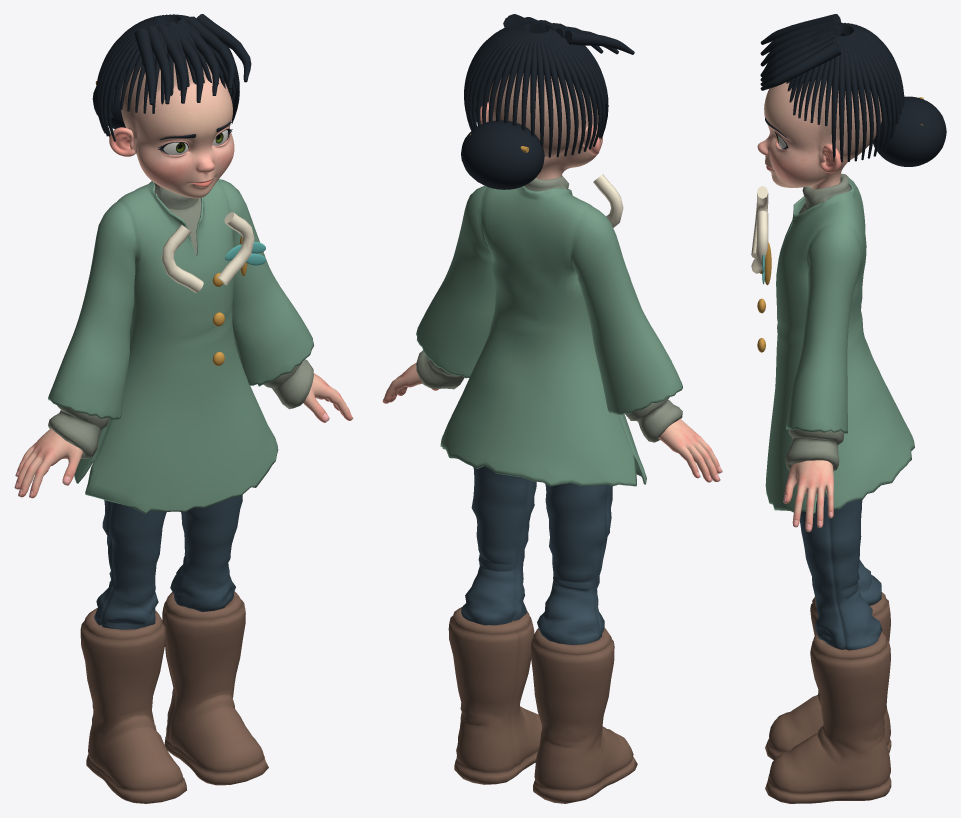
The model's file is actor-live-li.glb.
The picture shows the model from 3 angles, left to right: view 1: azimuth 30°, elevation 25°; view 2: azimuth 150°, elevation 25°; view 3: azimuth 270°, elevation 25°; orthographic projection.
Parts seen in each view (by area): view 1: GEO-spring_jacket.001, GEO_spring_boots.l.001, GEO_spring_boots.r.001, GEO_spring_pants.001, GEO-spring_head.001, GEO-spring_pullover.001, GEO_spring_arms.001, signature lapel.002, signature lapel.003, side fringe.007, side fringe.013, side fringe.012 (+4 smaller); view 2: GEO-spring_jacket.001, GEO_spring_pants.001, GEO_spring_boots.r.001, GEO_spring_boots.l.001, signature low bun.001, GEO-spring_head.001, GEO-spring_pullover.001, GEO_spring_arms.001, side fringe.007, signature lapel.002, bob strand.090, bob strand.092 (+5 smaller); view 3: GEO-spring_jacket.001, GEO_spring_boots.l.001, GEO_spring_pants.001, GEO-spring_head.001, signature low bun.001, GEO_spring_boots.r.001, GEO_spring_arms.001, GEO-spring_pullover.001, side fringe.013, signature lapel.003, bob strand.074, bob strand.073 (+16 smaller).
Boxes of the visible parts, box(x1,y1,x2,y2) form: GEO-spring_jacket.001: box(48, 179, 313, 513); GEO_spring_boots.l.001: box(162, 591, 268, 785); GEO_spring_boots.r.001: box(80, 607, 186, 803); GEO_spring_pants.001: box(94, 495, 242, 629); GEO-spring_head.001: box(109, 59, 234, 198); GEO-spring_pullover.001: box(48, 182, 313, 458); GEO_spring_arms.001: box(14, 373, 353, 498); signature lapel.002: box(161, 224, 203, 292); signature lapel.003: box(217, 212, 254, 285); side fringe.007: box(134, 28, 156, 104); side fringe.013: box(196, 14, 251, 82); side fringe.012: box(186, 16, 235, 89); GEO-spring_jacket.001: box(416, 185, 682, 486); GEO_spring_pants.001: box(461, 466, 612, 644); GEO_spring_boots.r.001: box(530, 627, 637, 803); GEO_spring_boots.l.001: box(448, 607, 541, 784); signature low bun.001: box(461, 120, 544, 189); GEO-spring_head.001: box(480, 73, 602, 179); GEO-spring_pullover.001: box(416, 175, 682, 442); GEO_spring_arms.001: box(382, 363, 722, 482); side fringe.007: box(565, 30, 634, 54); signature lapel.002: box(593, 174, 623, 227); bob strand.090: box(538, 33, 553, 157); bob strand.092: box(542, 33, 570, 156); GEO-spring_jacket.001: box(765, 178, 914, 514); GEO_spring_boots.l.001: box(765, 631, 891, 803); GEO_spring_pants.001: box(800, 494, 882, 650); GEO-spring_head.001: box(757, 80, 881, 189); signature low bun.001: box(873, 96, 946, 166); GEO_spring_boots.r.001: box(765, 592, 891, 759); GEO_spring_arms.001: box(783, 460, 834, 532); GEO-spring_pullover.001: box(785, 173, 850, 471); side fringe.013: box(760, 42, 840, 90); signature lapel.003: box(751, 211, 768, 273); bob strand.074: box(842, 36, 851, 161); bob strand.073: box(838, 36, 844, 162).
Size of the model in its own units: 0.8028 by 1.73 by 0.4104.
Materials: 18 (3 with a texture image).
